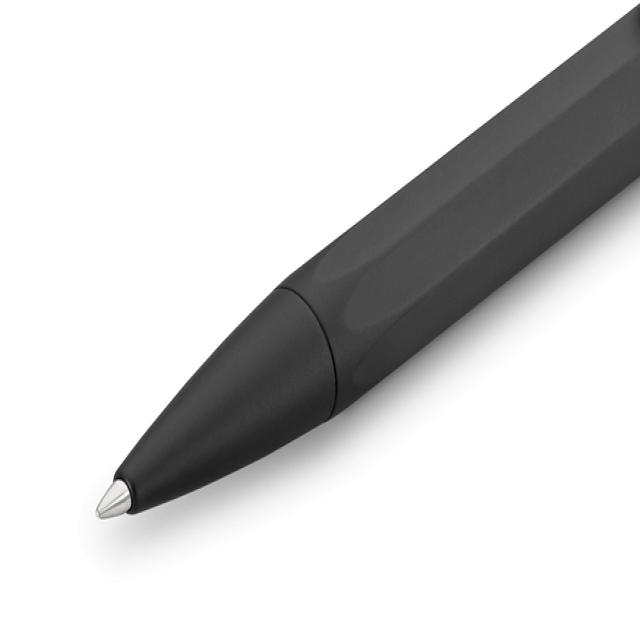pen: (70, 84, 508, 545)
